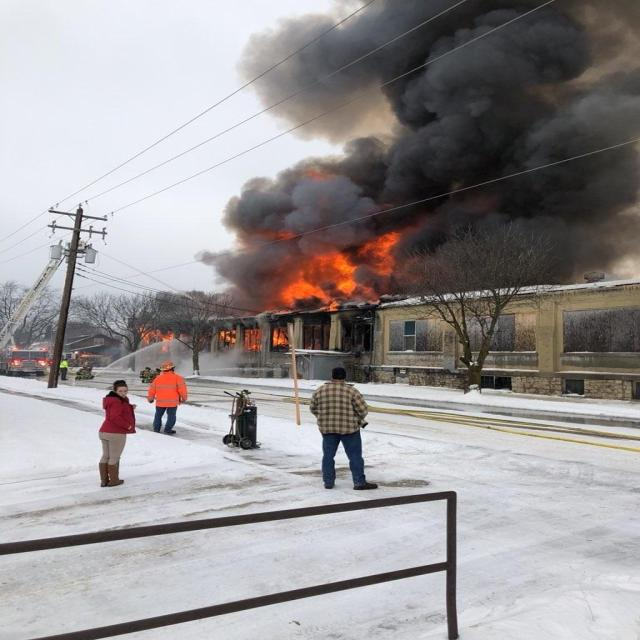Fire: (271, 232, 395, 308), (218, 330, 240, 345), (270, 328, 289, 345), (153, 329, 174, 340)
